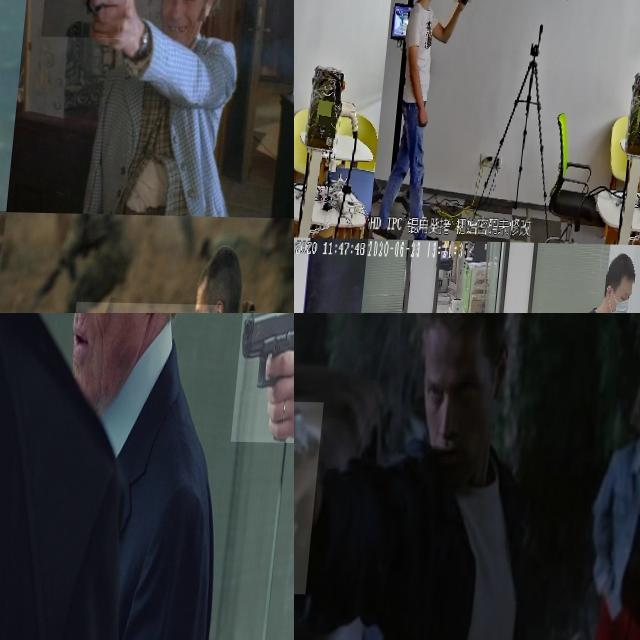gun-knife-thesis - v11 Yolov5 augmented: (294, 399, 361, 593), (0, 207, 77, 313), (239, 313, 294, 441), (43, 0, 136, 65), (0, 6, 21, 99), (294, 285, 315, 313), (454, 0, 476, 20), (294, 0, 306, 18)
